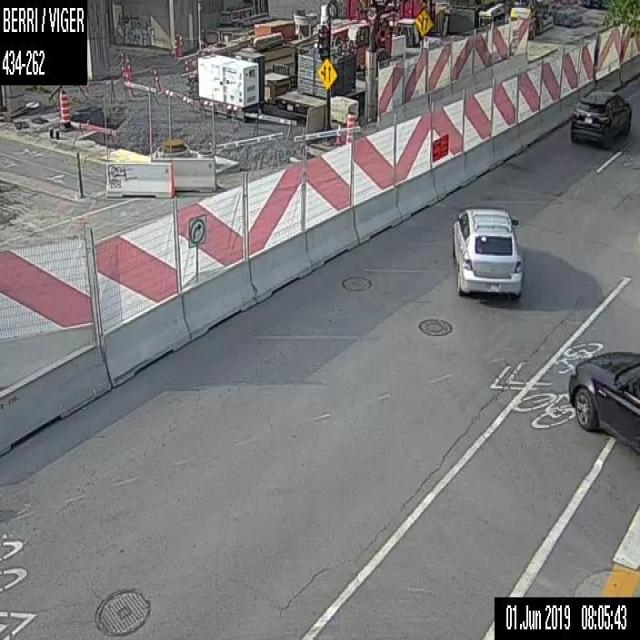construction: (58, 86, 72, 128), (346, 110, 356, 142), (336, 122, 342, 144)
vehicle: (566, 350, 639, 458), (450, 204, 523, 301), (568, 87, 633, 149)
